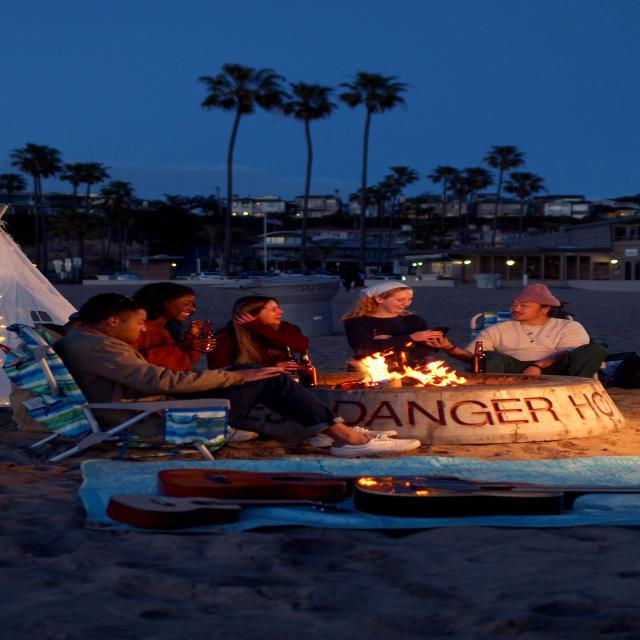Fire: (345, 346, 474, 388)
